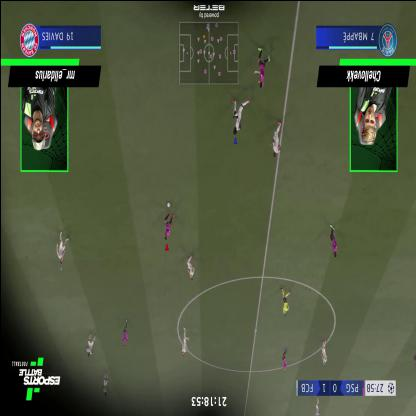ball: (166, 200, 170, 206)
